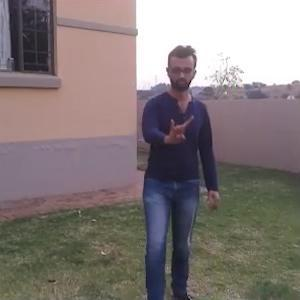takeoff-hand: (162, 109, 195, 146)
